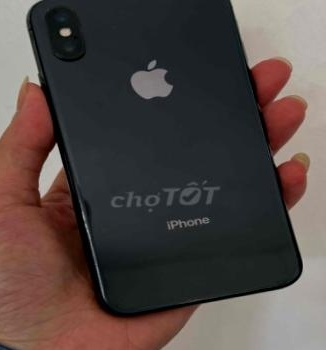scratch: (72, 210, 97, 233), (108, 20, 122, 32), (89, 259, 103, 268), (43, 6, 53, 13)
